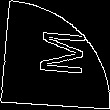M_W: (26, 30, 84, 80)
